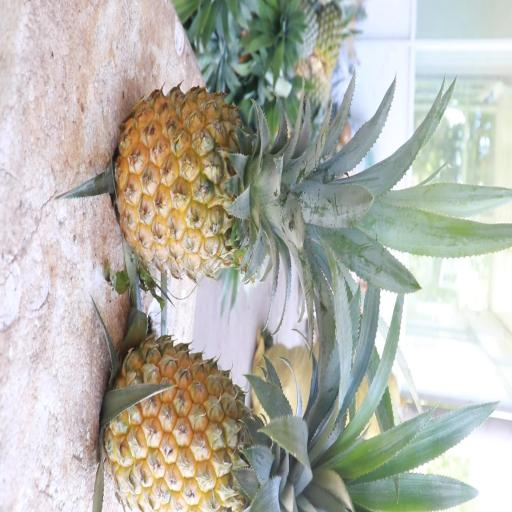Pineapple - v8 v1: (109, 80, 331, 288), (98, 330, 348, 512)
